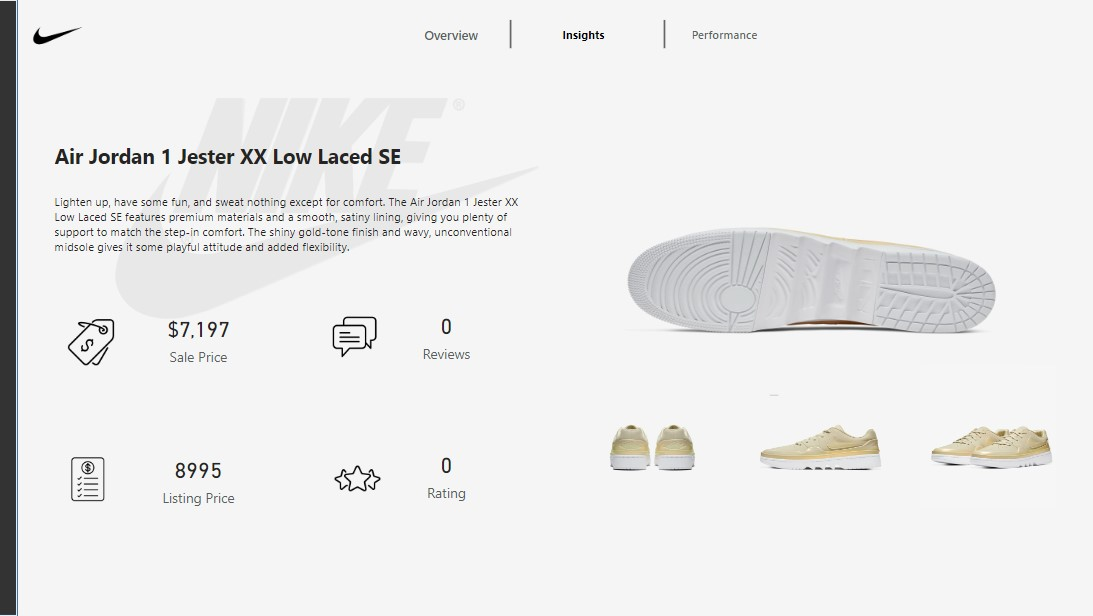

The page's visual inventory and layout, read from the dashboard file:
{"tool":"powerbi","page":{"name":"Insights","canvas":[1280,720],"ordinal":1},"visuals":[{"type":"image","box":[0,81.2,765.3,317],"z":500},{"type":"card","fields":{"Values":["Sum(Nike-Details.Sale Price)"]},"box":[108.2,352.6,249.9,82.8],"z":1000},{"type":"card","fields":{"Values":["Sum(Nike-Details.Listing Price)"]},"box":[108.2,522,249.9,76.1],"z":2000},{"type":"card","fields":{"Values":["Sum(Nike-Details.Reviews)"]},"box":[397.9,349.6,249.9,82.8],"z":3000},{"type":"shape","box":[65.6,196.8,543.5,131.2],"z":4000},{"type":"cardVisual","fields":{"Data":["Min(Nike-Details.Front-image)"]},"box":[682.5,10.9,581,420.1],"z":5000},{"type":"shape","box":[583,23.4,30,33],"z":6000},{"type":"shape","box":[762.6,23.4,30,33],"z":7000},{"type":"cardVisual","fields":{"Data":["Min(Nike-Details.Back-Image)"]},"box":[861.4,413.2,182.1,187],"z":8000},{"type":"cardVisual","fields":{"Data":["Min(Nike-Details.Back-Image)"]},"box":[1061.8,411,181,187],"z":9000},{"type":"actionButton","box":[458,20.8,140.6,40.6],"z":10000},{"type":"actionButton","box":[612.7,20.8,140.6,40.6],"z":11000},{"type":"cardVisual","fields":{"Data":["Min(Nike-Details.Back-Image)"]},"box":[664.5,413.2,180.4,187],"z":12000},{"type":"actionButton","box":[778.2,20.8,140.6,40.6],"z":13000},{"type":"shape","box":[65.6,149.9,546.6,62.5],"z":14000},{"type":"card","fields":{"Values":["Nike-Details.RatingSum"]},"box":[397.9,513.5,249.9,81.1],"z":15000},{"type":"image","box":[386.6,522.5,65.6,75],"z":16000},{"type":"image","box":[383.5,362.9,65.6,60.9],"z":17000},{"type":"image","box":[75.8,367.6,65.6,64],"z":18000},{"type":"image","box":[65,529.4,77.8,61.2],"z":19000},{"type":"advancedSlicerVisual","fields":{"Values":["Nike-Details.Product Name"]},"box":[897.1,456.8,365.8,13.2],"z":21000},{"type":"image","box":[11.6,11.6,114.2,59.6],"z":22000},{"type":"shape","box":[0,0,21.9,720],"z":23000}]}

Visuals, with their boxes in screenshot pixels (x1, y1, x2, y2), scaled from the page's 1280x720 canvas onto the 1093x616 screenshot:
image: box=[0, 69, 653, 341]
card - Sum(Nike-Details.Sale Price): box=[92, 302, 306, 373]
card - Sum(Nike-Details.Listing Price): box=[92, 447, 306, 512]
card - Sum(Nike-Details.Reviews): box=[340, 299, 553, 370]
shape: box=[56, 168, 520, 281]
cardVisual - Min(Nike-Details.Front-image): box=[583, 9, 1079, 369]
shape: box=[498, 20, 523, 48]
shape: box=[651, 20, 677, 48]
cardVisual - Min(Nike-Details.Back-Image): box=[736, 354, 891, 514]
cardVisual - Min(Nike-Details.Back-Image): box=[907, 352, 1061, 512]
actionButton: box=[391, 18, 511, 53]
actionButton: box=[523, 18, 643, 53]
cardVisual - Min(Nike-Details.Back-Image): box=[567, 354, 721, 514]
actionButton: box=[665, 18, 785, 53]
shape: box=[56, 128, 523, 182]
card - Nike-Details.RatingSum: box=[340, 439, 553, 509]
image: box=[330, 447, 386, 511]
image: box=[327, 310, 383, 363]
image: box=[65, 315, 121, 369]
image: box=[56, 453, 122, 505]
advancedSlicerVisual - Nike-Details.Product Name: box=[766, 391, 1078, 402]
image: box=[10, 10, 107, 61]
shape: box=[0, 0, 19, 615]
